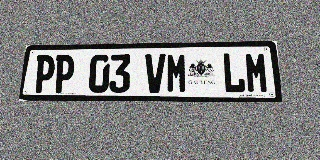0: (88, 54, 110, 93)
3: (109, 54, 131, 93)
L: (222, 53, 246, 93)
M: (244, 52, 269, 93), (166, 53, 187, 93)
P: (33, 55, 56, 93), (53, 55, 75, 93)
V: (144, 54, 166, 93)
